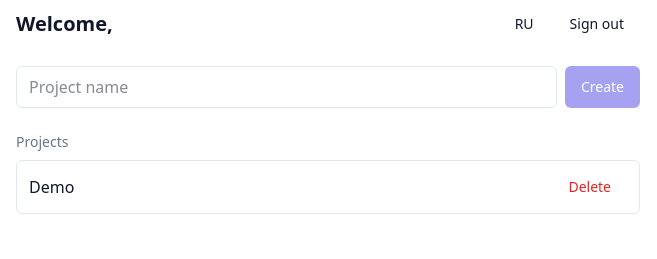
Test case: HomeScreen › shows an alert when deletion fails
The width and height of the screenshot is (657, 259).
Step 1. Click the button "Delete" → (590,187), box [552, 169, 627, 205]
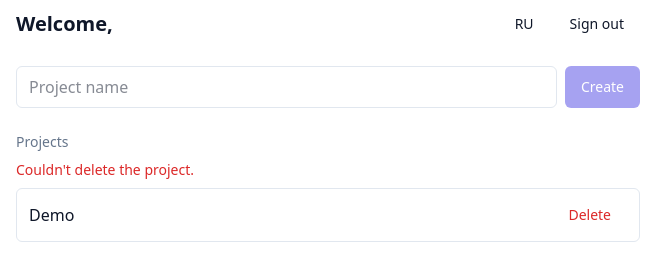
expect the message reads "Couldn't delete the project.": met, box [16, 160, 194, 179]
